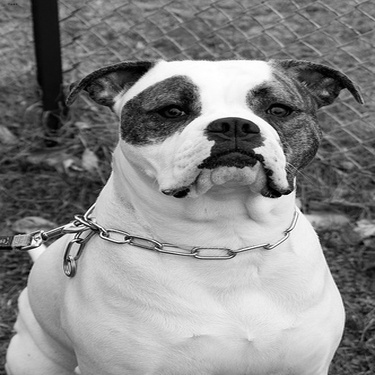dog: (1, 52, 362, 371)
